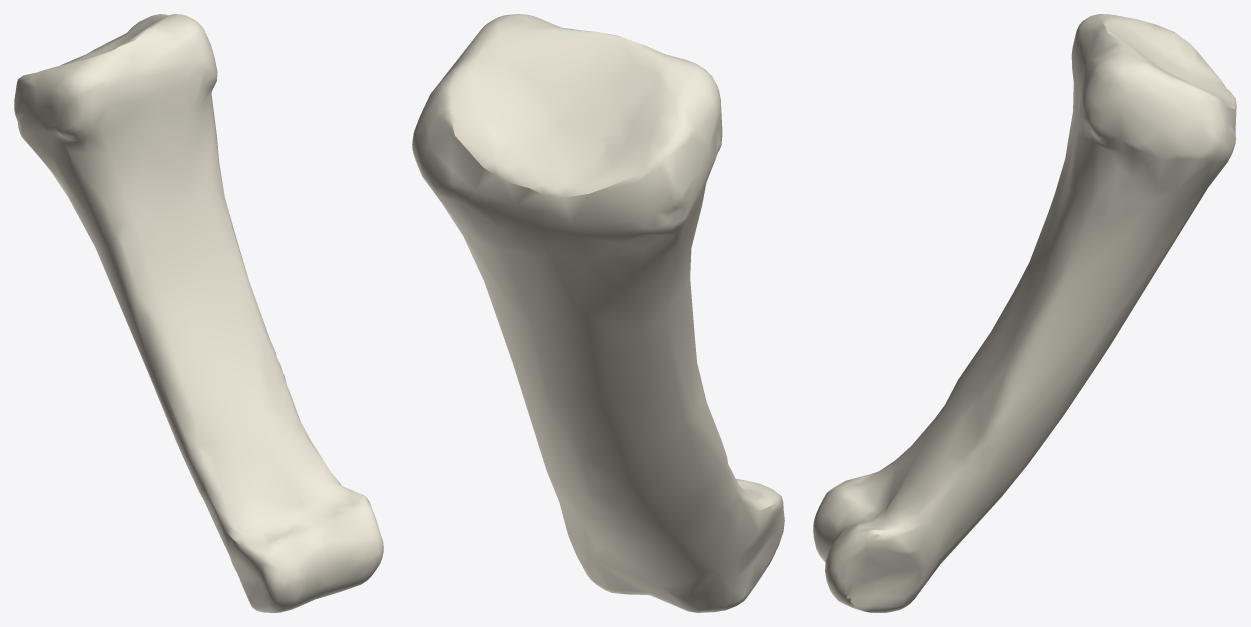
File: fma71908.glb
3 renders of one model, left to right at view 1: azimuth 30°, elevation 25°; view 2: azimuth 150°, elevation 25°; view 3: azimuth 270°, elevation 25°, orthographic. The views are drawn at different scales.
Parts seen in each view (by area): view 1: FMA71908; view 2: FMA71908; view 3: FMA71908.
Boxes of the visible parts, x1,y1,x2,y2 form: FMA71908: (14, 14, 383, 612); FMA71908: (412, 14, 784, 612); FMA71908: (813, 14, 1236, 612).
Bounding box in the file's own units: 0.0183 × 0.0408 × 0.0292.
